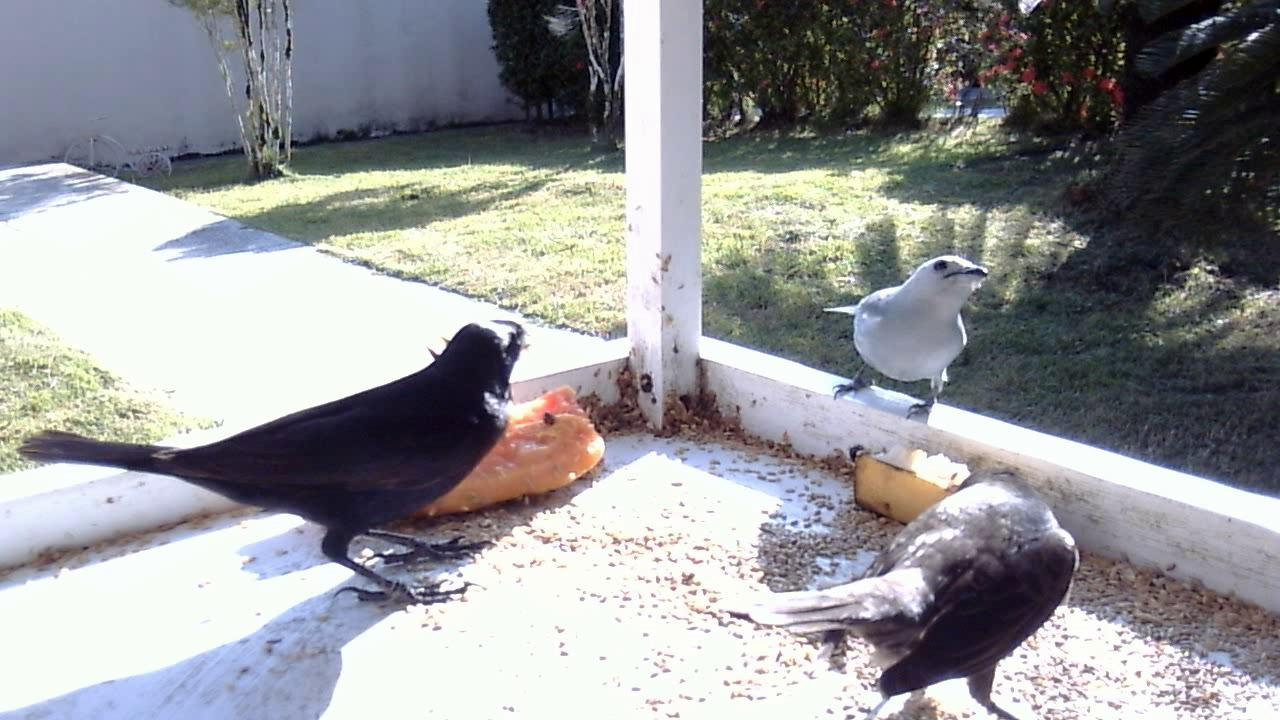chupim: (4, 277, 542, 636), (706, 437, 1093, 720)
sanhaco_da_amazonia: (819, 253, 986, 423)
